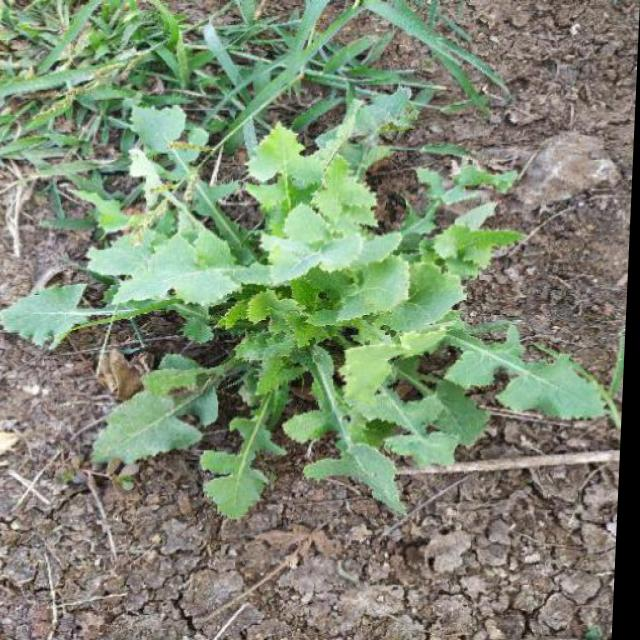weed: (36, 106, 613, 520)
